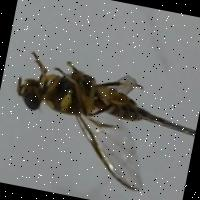Oriental-fruit-fly: (0, 37, 189, 199)
